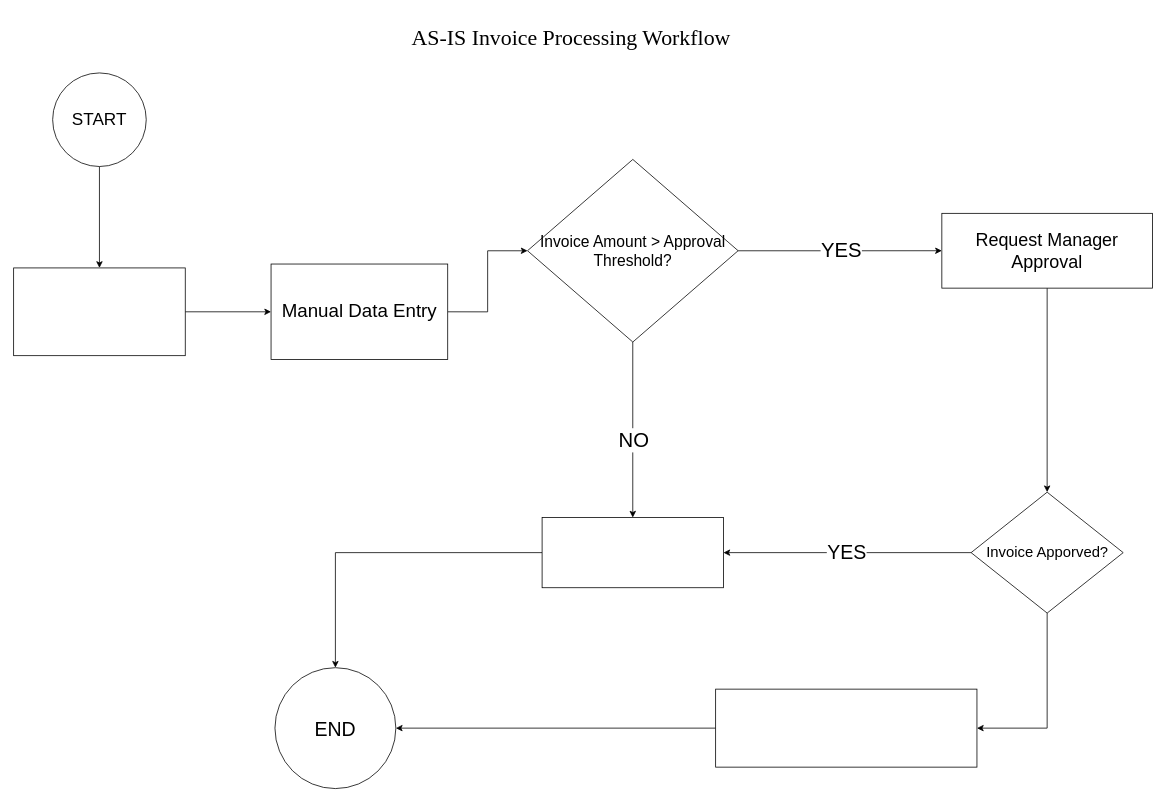
Image size: 1166x803. Some labels were removed from this diagram. The shapes that lost their labels are listed below. From the top down, each one's centre as x and y in pixels, then its label:
At point (99, 311): "Invoice Received".
At point (632, 552): "Process Vendor Payment".
At point (846, 727): "Send back to Vendor".
